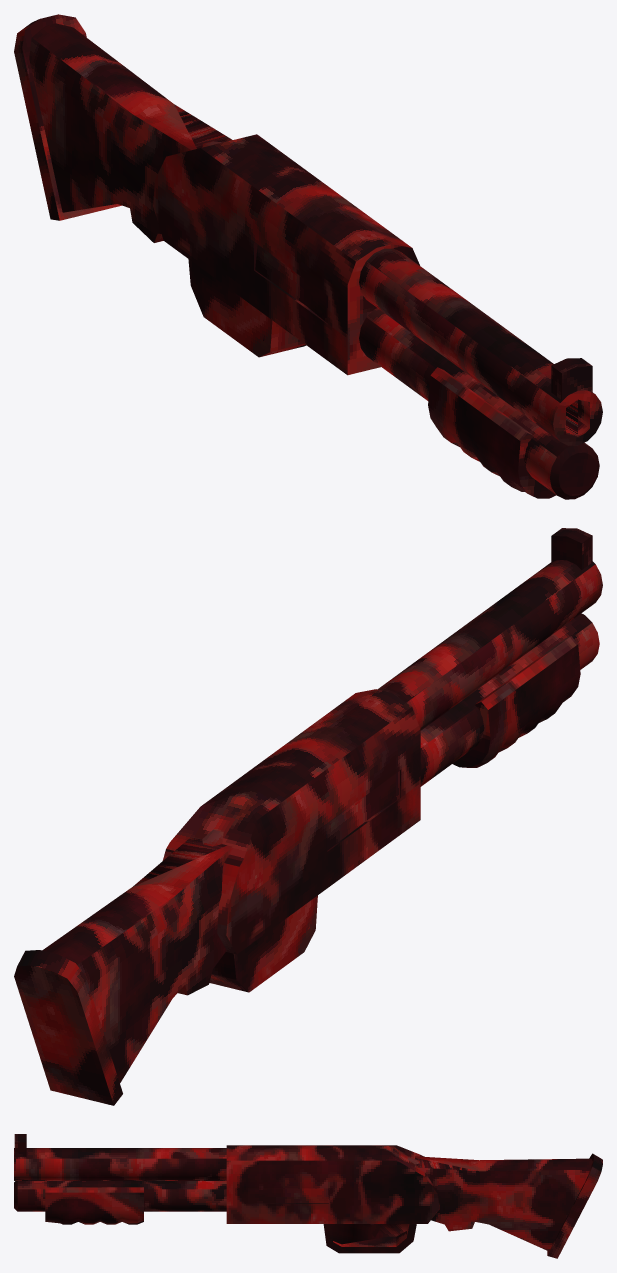
Rendered from item_shotgun_blood.glb.
3 views of the same model, one above another, from view 1: azimuth 30°, elevation 25°; view 2: azimuth 150°, elevation 25°; view 3: azimuth 270°, elevation 25° (orthographic). The views are drawn at different scales.
Visible parts, largest first — view 1: Shotgun_submesh_2, Shotgun_submesh_3, Shotgun_submesh_0, Shotgun_submesh_1; view 2: Shotgun_submesh_2, Shotgun_submesh_3, Shotgun_submesh_0, Shotgun_submesh_1; view 3: Shotgun_submesh_3, Shotgun_submesh_2, Shotgun_submesh_0, Shotgun_submesh_1.
Part boxes in pixels (box(x1,y1,x2,y2)): Shotgun_submesh_2: box(14, 14, 602, 499); Shotgun_submesh_3: box(153, 134, 419, 375); Shotgun_submesh_0: box(29, 23, 232, 242); Shotgun_submesh_1: box(428, 367, 556, 498); Shotgun_submesh_2: box(14, 528, 602, 1105); Shotgun_submesh_3: box(162, 689, 420, 954); Shotgun_submesh_0: box(42, 829, 232, 1082); Shotgun_submesh_1: box(452, 636, 580, 767); Shotgun_submesh_3: box(226, 1145, 439, 1223); Shotgun_submesh_2: box(14, 1134, 602, 1258); Shotgun_submesh_0: box(408, 1156, 592, 1251); Shotgun_submesh_1: box(45, 1187, 143, 1224).
Size of the model in its own units: 0.049 by 0.1323 by 0.6202.
1 material, 1 textured.
